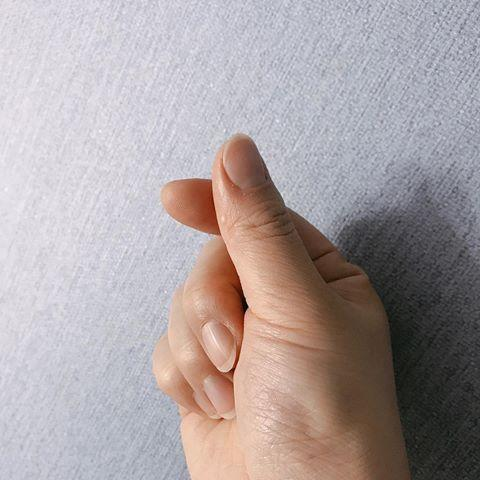heart gesture: (158, 130, 325, 237)
